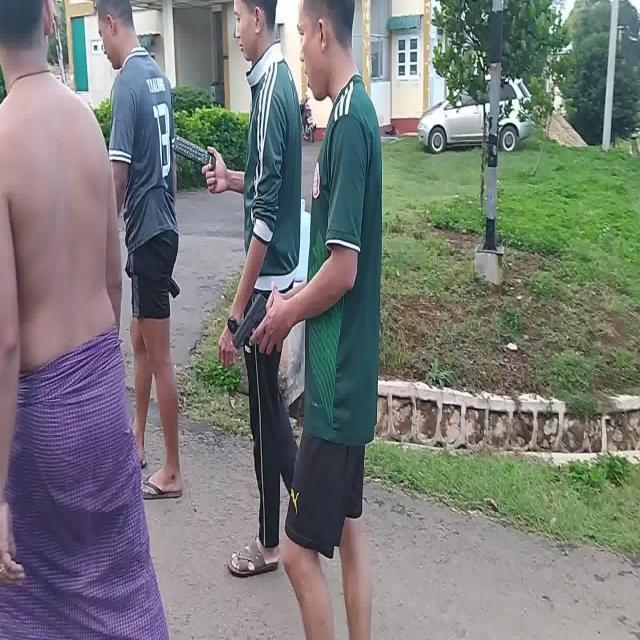gun: (232, 295, 268, 351)
